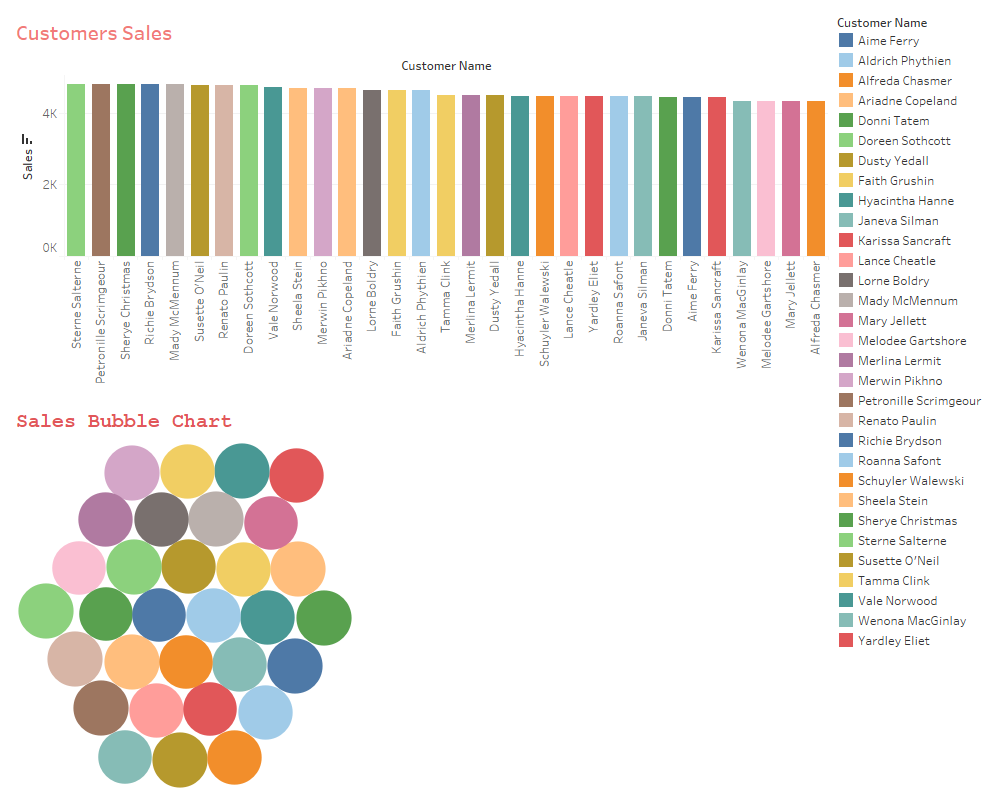

Layout of this report page (visuals, bound fields, positions):
{"tool":"tableau","page":{"name":"Dashboard 1","canvas":[1000,800],"ordinal":0},"visuals":[{"type":"worksheet","title":"Customers Sales","mark":"Automatic","rows":["Sales"],"cols":["Customer Name"],"box":[8,8,824,392]},{"type":"legend","title":"Customers Sales","param":"[federated.0mdo6zt0144eiw172m6u71qqiuj9].[none:Customer Name:nk]","box":[832,8,160,646]},{"type":"worksheet","title":"Sales Bubble Chart","mark":"Circle","box":[8,400,824,392]}]}

Visuals, with their boxes in screenshot pixels (x1, y1, x2, y2), scaled from the page's 1000x800 canvas onto the 1000x800 screenshot:
"Customers Sales" worksheet: 8,8,832,400
"Customers Sales" legend: 832,8,992,654
"Sales Bubble Chart" worksheet (Circle marks): 8,400,832,792
